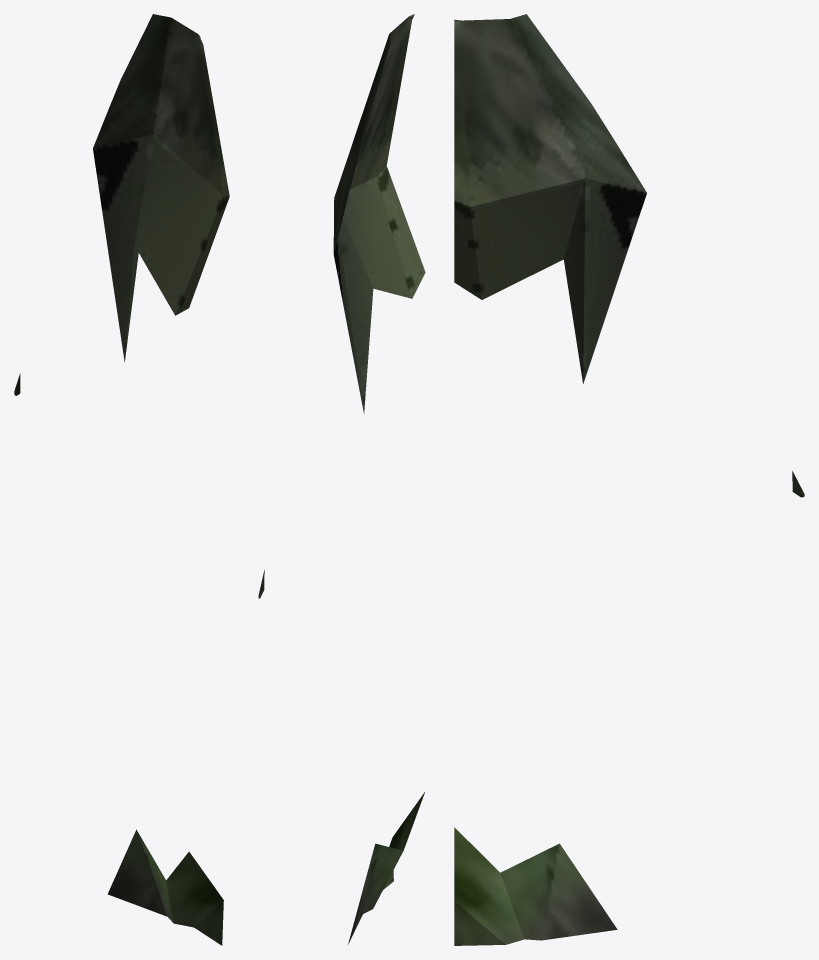
The picture shows the model from 3 angles, left to right: view 1: azimuth 30°, elevation 25°; view 2: azimuth 150°, elevation 25°; view 3: azimuth 270°, elevation 25°; orthographic projection. The views are drawn at different scales.
Bounding box in the file's own units: 0.1435 × 2.95 × 1.02.
Materials: 1 (1 with a texture image).
